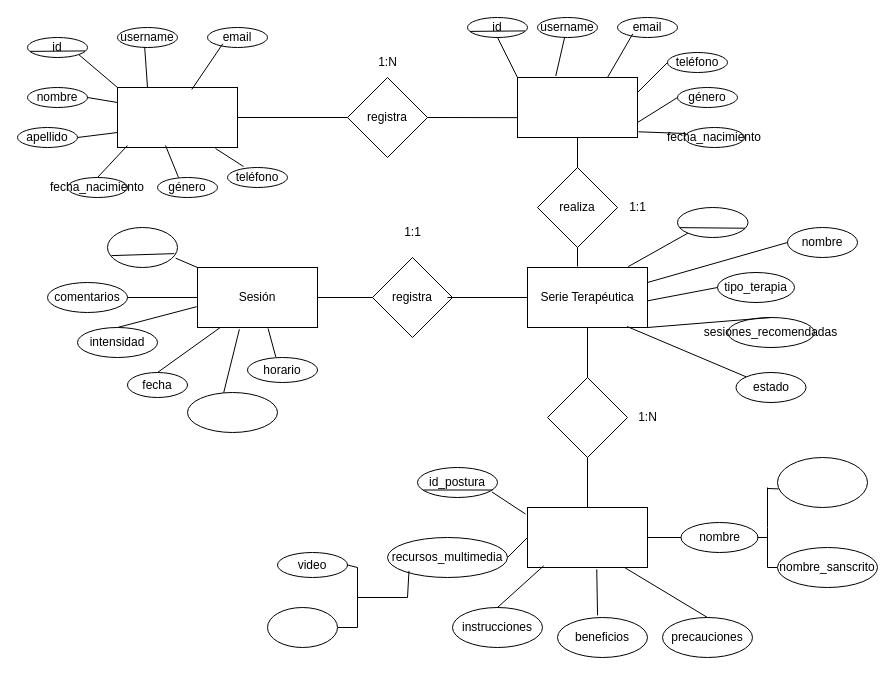
Some shapes in this 895 by 675 pixel diagram are drawn without their labels. Each missing label, with the centre of its shape:
"contiene" goes at point 587,417.
"id_serie" goes at point 712,222.
"id_sesion" goes at point 142,247.
"imagenes" goes at point 302,627.
"Instructor" goes at point 177,117.
"nombre_español" goes at point 822,482.
"Paciente" goes at point 577,107.
"Postura" goes at point 587,537.
"tiempo efectivo" goes at point 232,412.
